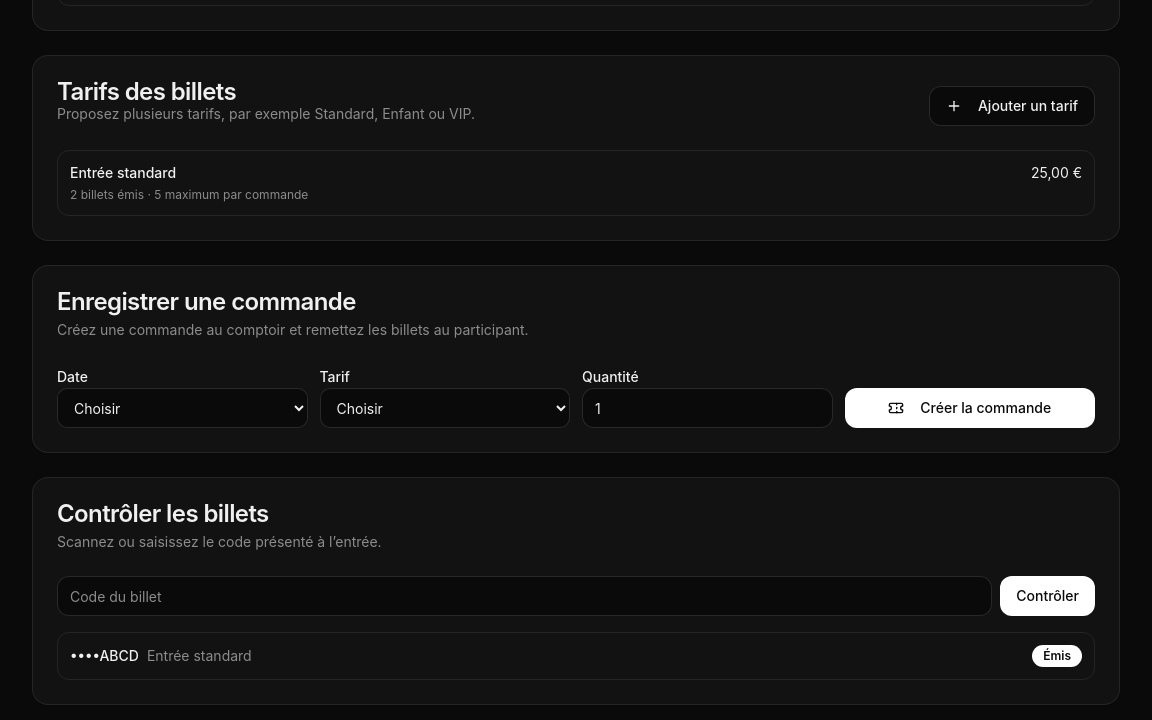
Test: EventsPage › émet une commande et affiche les codes une seule fois
(page scrolled)
Select "20 sept. 2026, 18:00" in the dropdown labelled "Date" at (182, 408), box [57,388,308,428]
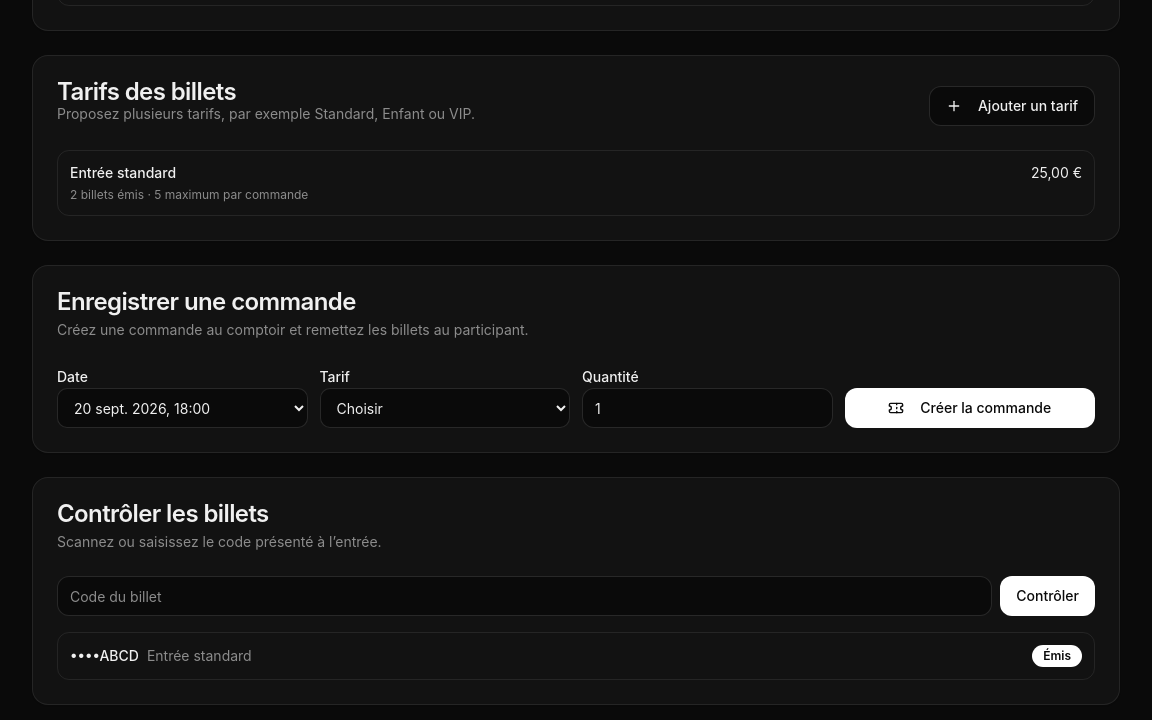
Select "Entrée standard · 25,00 €" in the dropdown labelled "Tarif" at (445, 408), box [320,388,570,428]
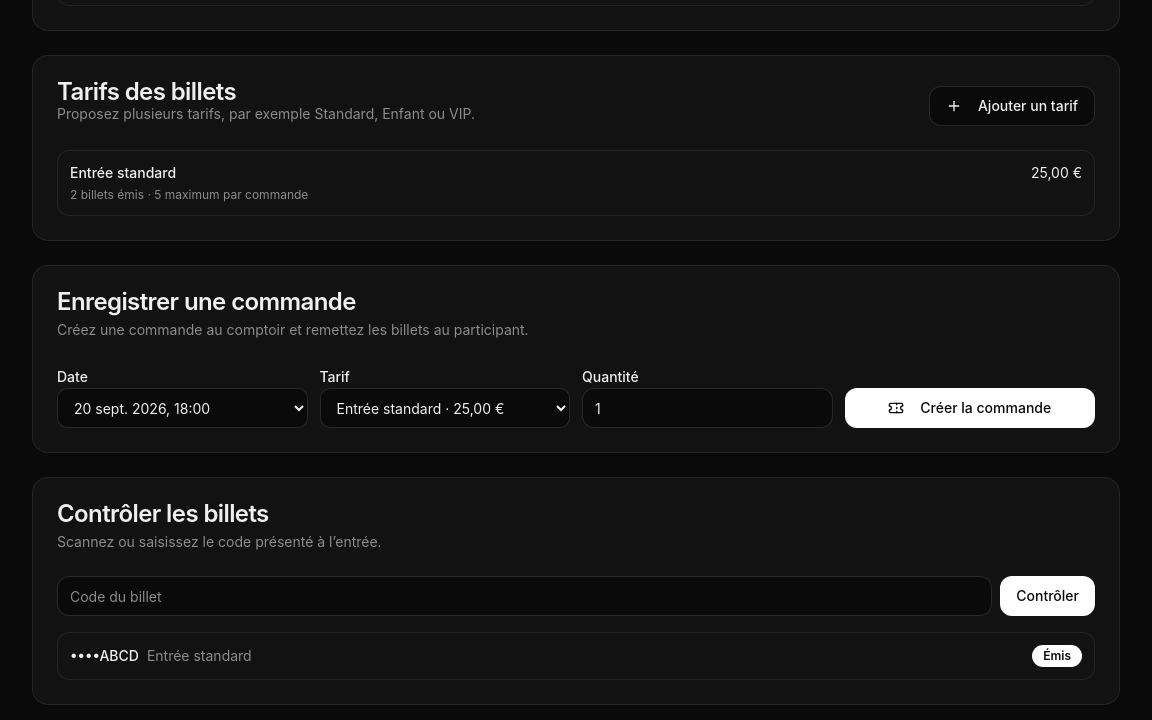
Click the button "Créer la commande" at (970, 408), box [844,388,1095,428]
(page scrolled)
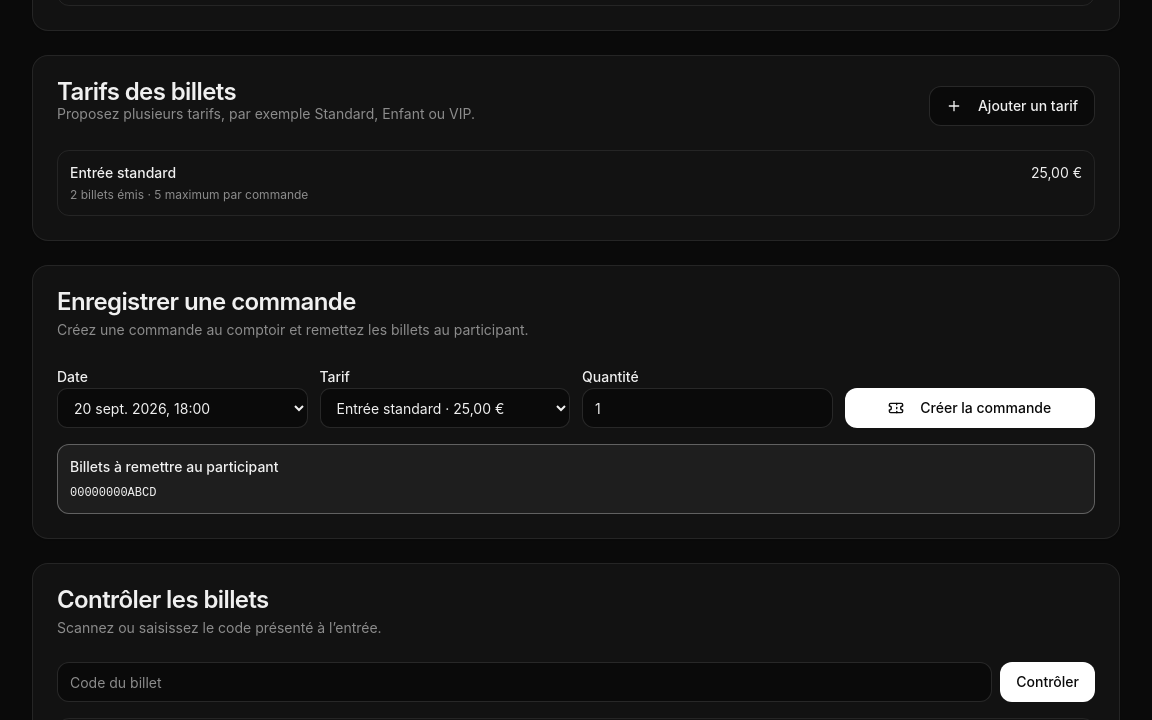
expect the text "Billets à remettre au participant" is shown: met, box [70,458,278,475]
